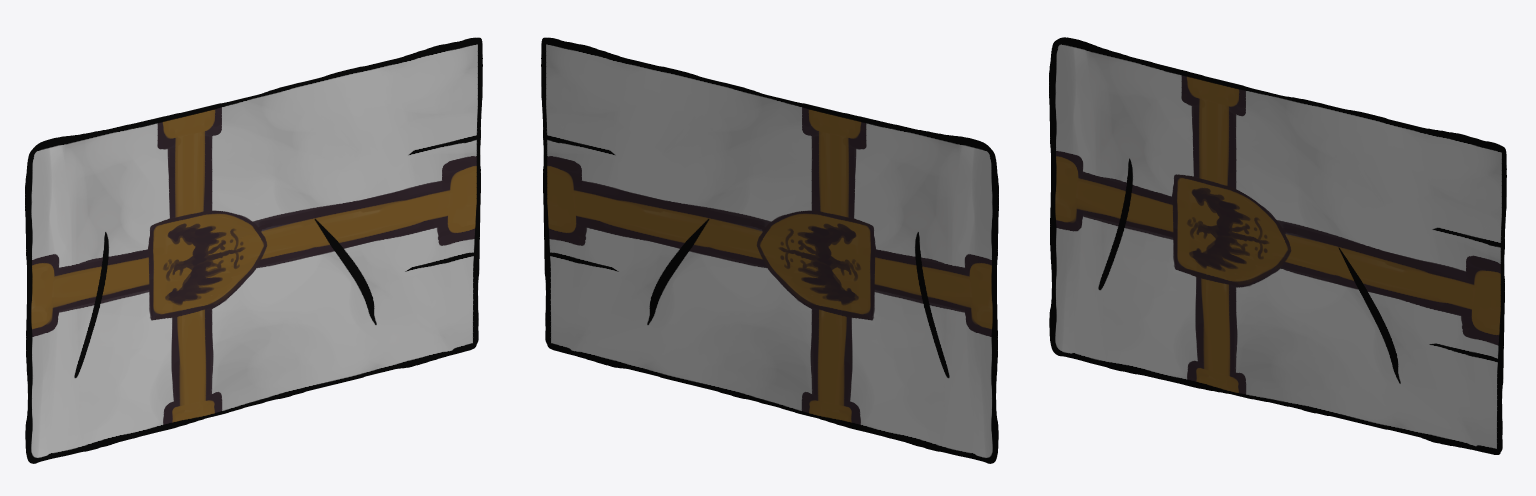
File: teuton_flag.fbx
3 views of the same model, side by side, from view 1: azimuth 30°, elevation 25°; view 2: azimuth 150°, elevation 25°; view 3: azimuth 330°, elevation 25° (orthographic).
Visible parts, largest first — view 1: C2; view 2: C2; view 3: C2.
Boxes of the visible parts, bbox=[...] form: C2: bbox=[25, 37, 482, 463]; C2: bbox=[541, 37, 998, 463]; C2: bbox=[1049, 37, 1506, 454].
Bounding box in the file's own units: 1.44 × 1 × 4.37e-08.
